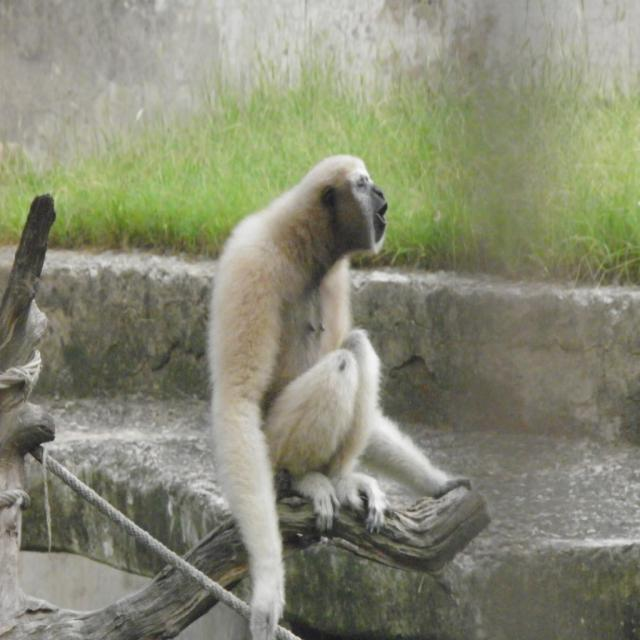Monkey: (206, 156, 472, 635)
